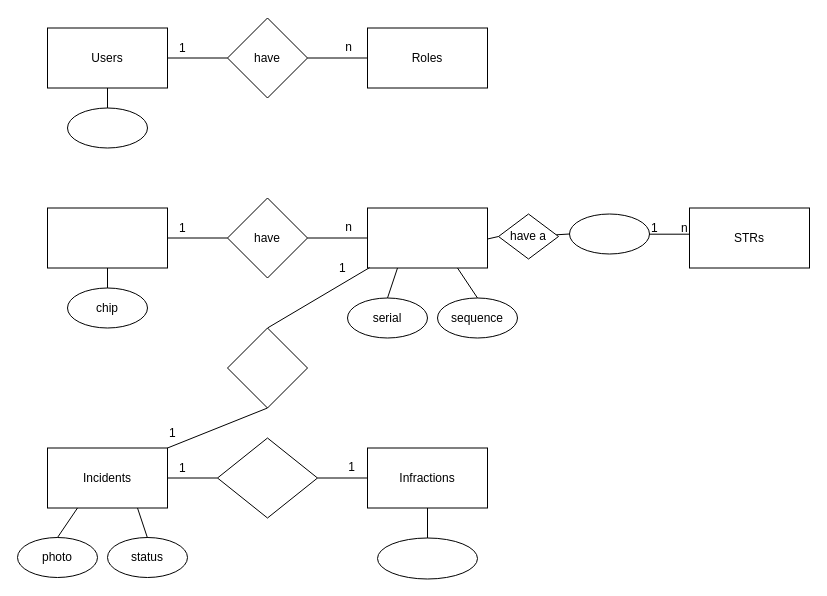
Some shapes in this 827 by 596 pixel diagram are drawn without their labels. The centre of each missing label's shape, as x and y in pixels:
contain: (267,367)
Dogs: (107,237)
may become: (267,477)
pattern: (609,233)
PDF document: (427,558)
Samples: (427,237)
username: (107,127)
